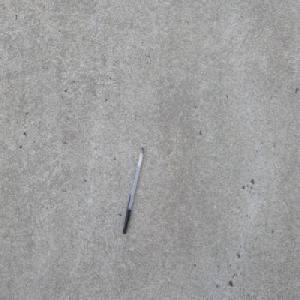Pen: (121, 145, 144, 234)
